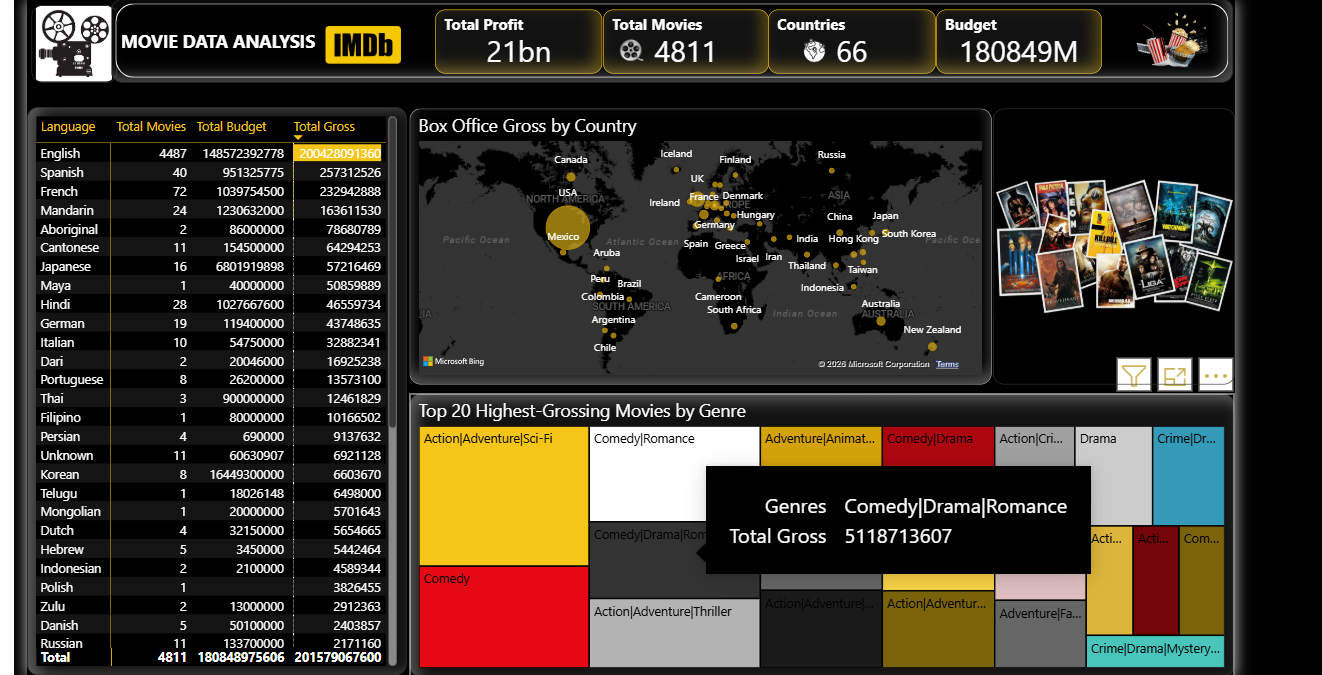

The page's visual inventory and layout, read from the dashboard file:
{"tool":"powerbi","page":{"name":"Page 2","canvas":[1280,720],"ordinal":1},"visuals":[{"type":"map","title":"Box Office Gross by Country","fields":{"Category":["movie_metadata.Country"],"Size":["Sum(movie_metadata.Gross)"]},"box":[406.3,115.5,617.4,292.8],"z":1000},{"type":"pivotTable","fields":{"Values":["movie_metadata.Total Movies","movie_metadata.Total Budget","movie_metadata.Total Gross"],"Rows":["movie_metadata.Language"]},"box":[0,115.3,402.5,602.8],"z":2000},{"type":"treemap","title":"Top 20 Highest-Grossing Movies by Genre","fields":{"Group":["movie_metadata.Genres"],"Values":["movie_metadata.Total Gross"]},"box":[406.3,418.3,874.4,300.8],"z":6000},{"type":"image","box":[1023.8,115.5,256.9,292.8],"z":7000},{"type":"image","box":[317.2,20.3,79.7,56.2],"z":8000},{"type":"image","box":[4.7,6.2,90.6,82.8],"z":9000},{"type":"card","title":"Total Profit","fields":{"Values":["movie_metadata.Total Profit"]},"box":[432.8,11.3,177.6,68],"z":10000},{"type":"card","title":"Total Movies","fields":{"Values":["movie_metadata.Total Movies"]},"box":[610.3,11.3,175.7,68],"z":11000},{"type":"card","title":"Countries","fields":{"Values":["movie_metadata.Total Countries"]},"box":[786,11.3,177.7,68],"z":12000},{"type":"image","box":[602.8,37.8,75.6,41.6],"z":13000},{"type":"card","title":"Budget","fields":{"Values":["movie_metadata.Total Budget"]},"box":[963.7,11.3,175.7,68],"z":14000},{"type":"image","box":[806,41,57,35.3],"z":15000},{"type":"shape","box":[89.7,0,1190.3,88.9],"z":16000},{"type":"image","box":[1153.1,6.2,125.9,82.7],"z":17000}]}

Visuals, with their boxes on the page's 1280x720 design canvas (x1, y1, x2, y2). These are canvas units, not pixel positions in the 1322x675 screenshot, which may show the page scaled, cropped or inside an application window:
"Box Office Gross by Country" map: (406,116,1024,408)
pivotTable - movie_metadata.Total Movies x movie_metadata.Total Budget: (0,115,402,718)
"Top 20 Highest-Grossing Movies by Genre" treemap: (406,418,1281,719)
image: (1024,116,1281,408)
image: (317,20,397,76)
image: (5,6,95,89)
"Total Profit" card: (433,11,610,79)
"Total Movies" card: (610,11,786,79)
"Countries" card: (786,11,964,79)
image: (603,38,678,79)
"Budget" card: (964,11,1139,79)
image: (806,41,863,76)
shape: (90,0,1280,89)
image: (1153,6,1279,89)
